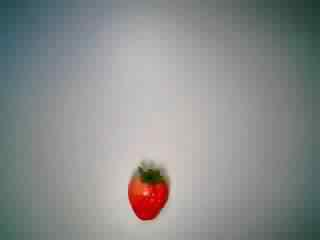strawberry: (112, 156, 178, 222)
